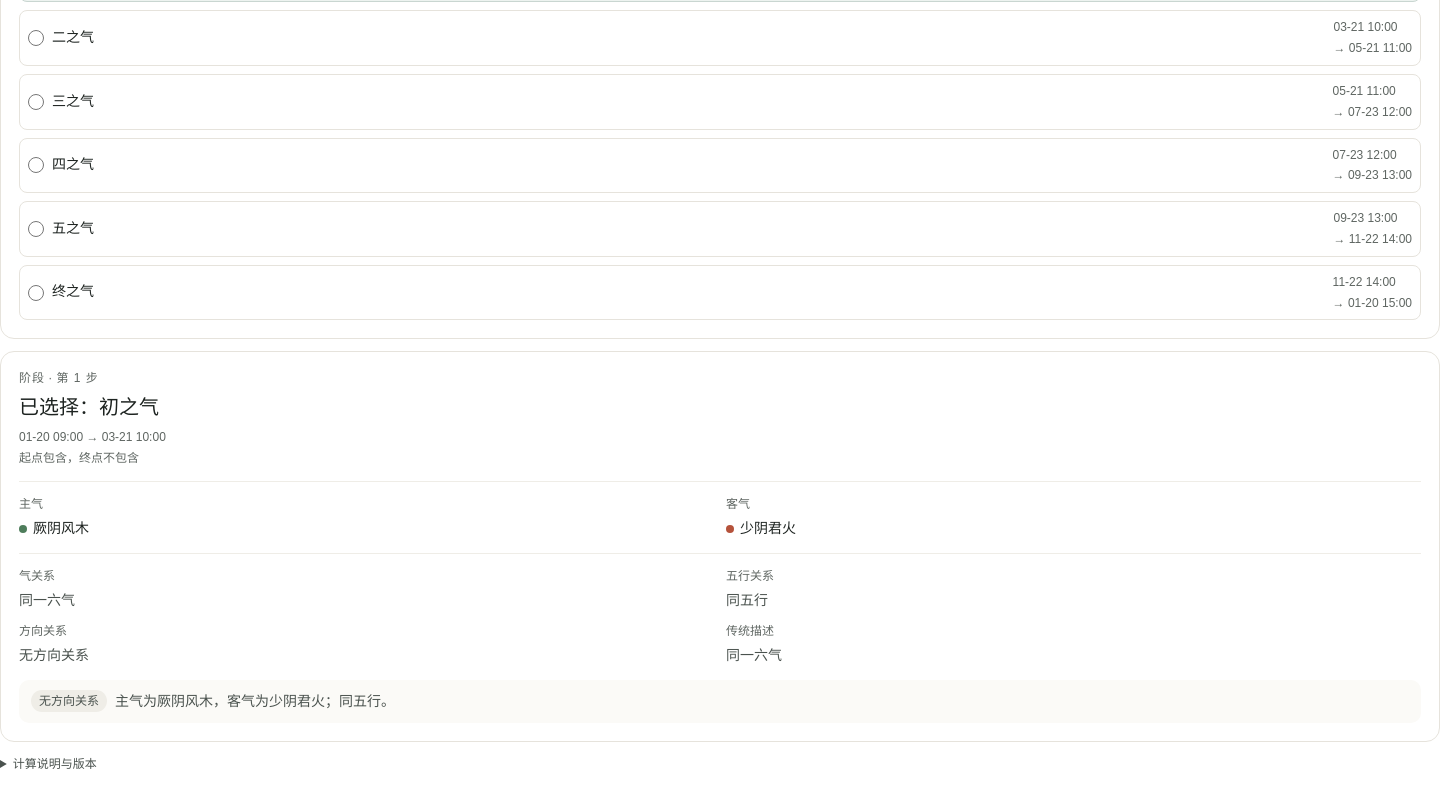
Test: AnnualYunQiView › maps successful annual data using canonical localTime only
This screenshot has width=1440, height=786.
(page scrolled)
Click the heading "计算说明与版本" at [55, 764], box [13,757,97,771]
(page scrolled)
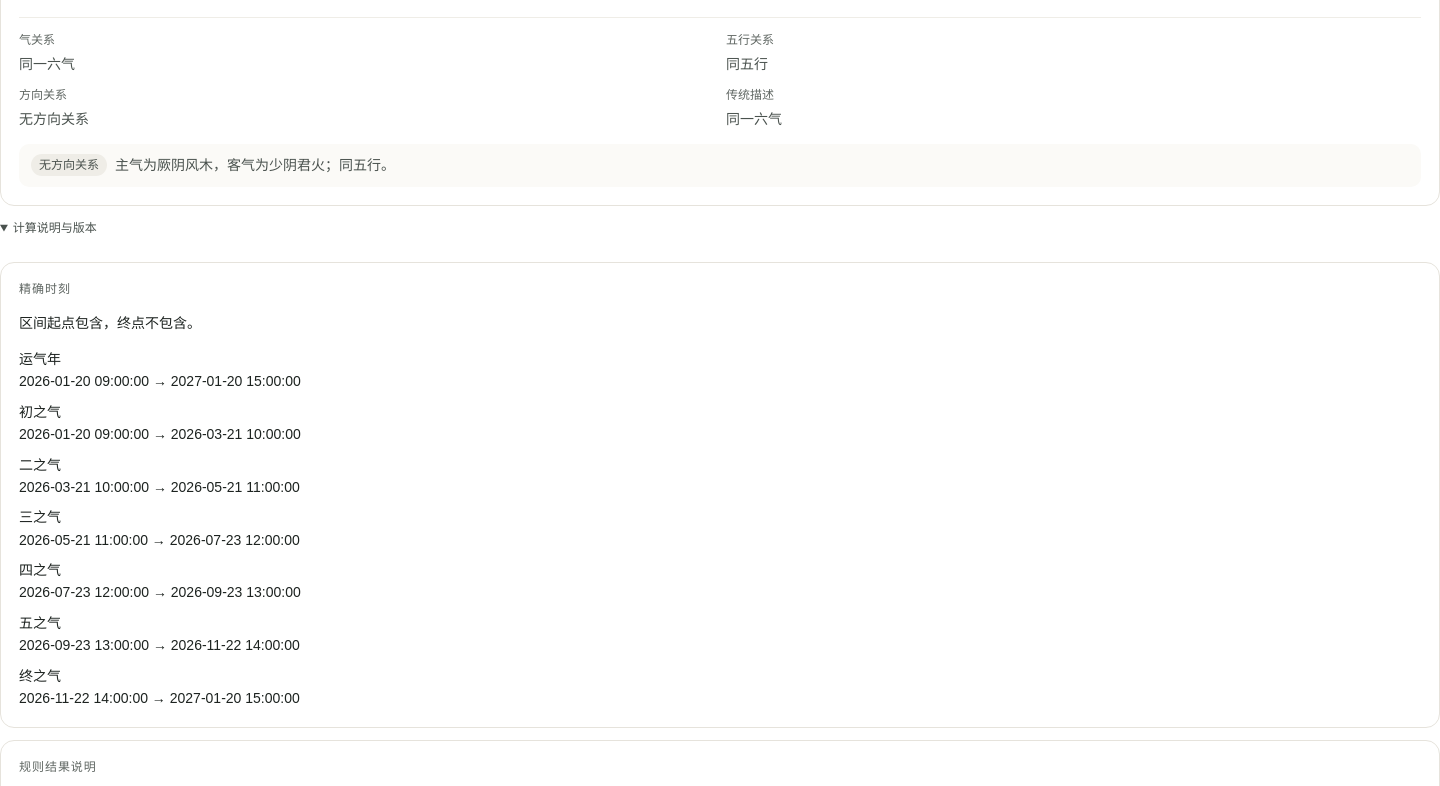
Expected: the text "2026-01-20 09:00:00" below "运气年" is shown, [19,370,149,393]
Expected: the text "2027-01-20 15:00:00" below "运气年" is shown, [171,370,301,393]
